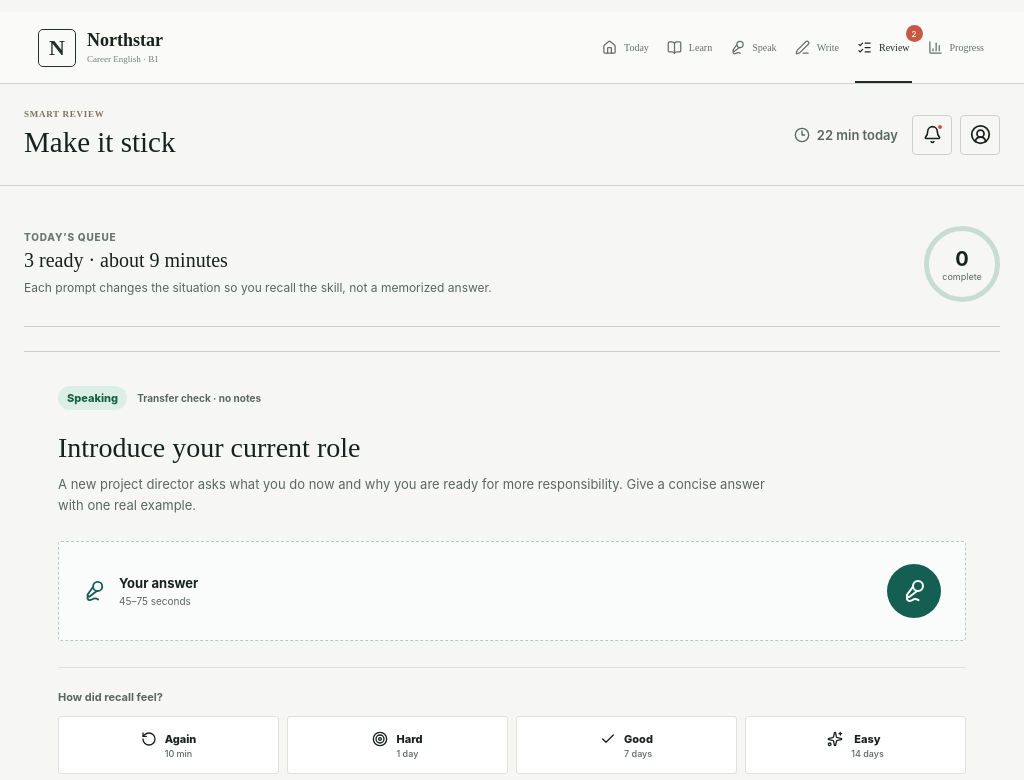
it: learning UI prototype › advances the adaptive review queue after grading recall
Expected: the heading "Introduce your current role" is shown, [58, 432, 360, 463]
Click the button "Good 7 days" at (626, 745), box [516, 716, 737, 774]
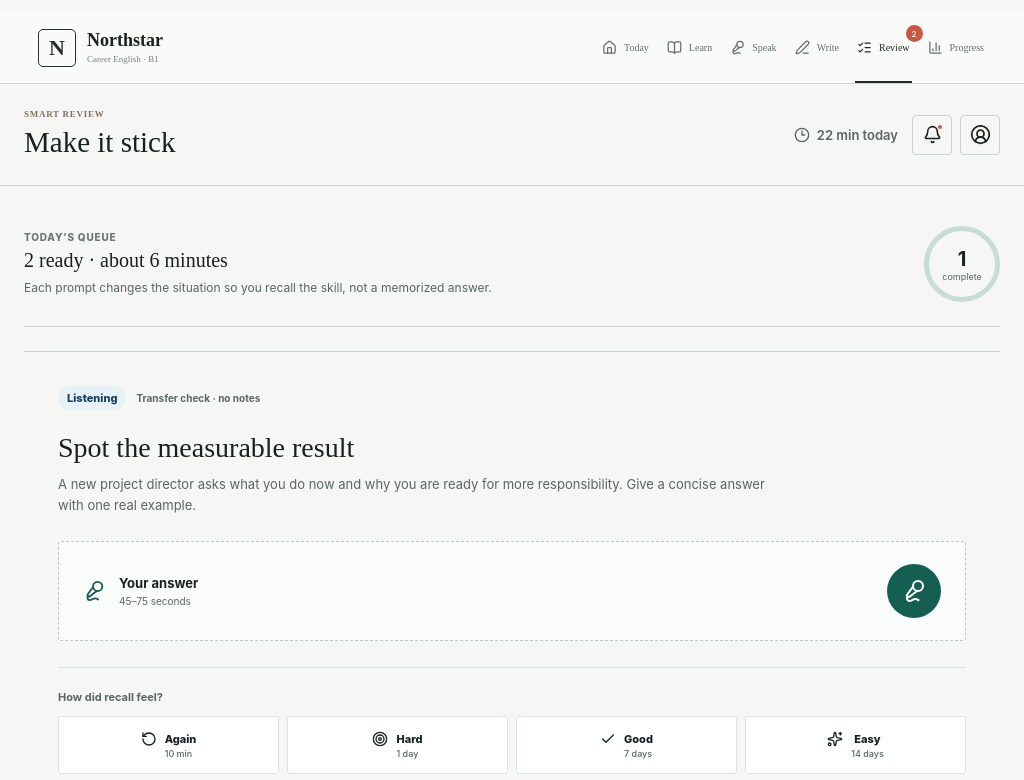
Expected: the heading "Spot the measurable result" is shown, [58, 432, 354, 463]
Expected: the text "1" is shown, [958, 246, 966, 270]
